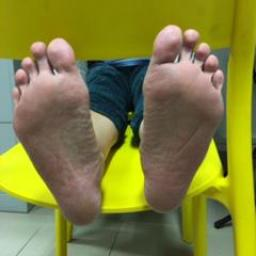Plantar View -Both Feet-: (1, 13, 242, 236)
